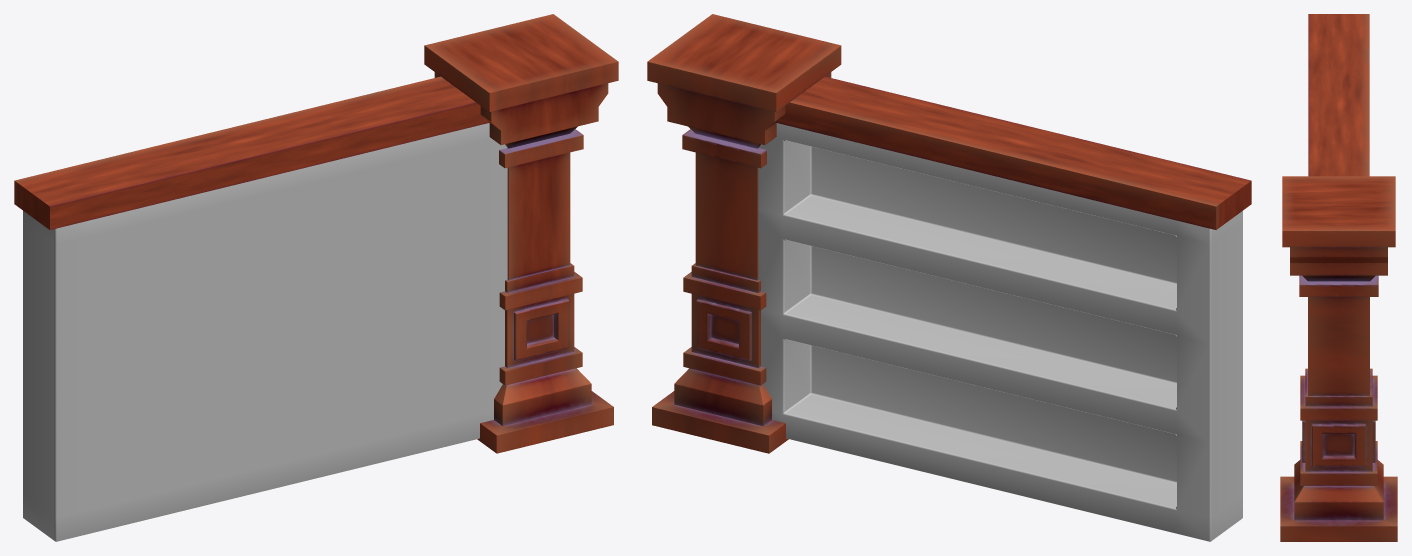
File: wall_lvl2_bookcase_one_columne.fbx
3 views of the same model, side by side, from view 1: azimuth 30°, elevation 25°; view 2: azimuth 150°, elevation 25°; view 3: azimuth 270°, elevation 25° (orthographic). The views are drawn at different scales.
Parts seen in each view (by area): view 1: Cube.015, bookcase_two_columne.002; view 2: Cube.015, bookcase_two_columne.002; view 3: bookcase_two_columne.002.
Part boxes in pixels (x1=…): Cube.015: x1=23, y1=123, x2=507, y2=541; bookcase_two_columne.002: x1=14, y1=14, x2=618, y2=453; Cube.015: x1=758, y1=123, x2=1242, y2=541; bookcase_two_columne.002: x1=647, y1=14, x2=1251, y2=453; bookcase_two_columne.002: x1=1280, y1=14, x2=1397, y2=541.
Bounding box in the file's own units: 1148 × 715 × 243.
